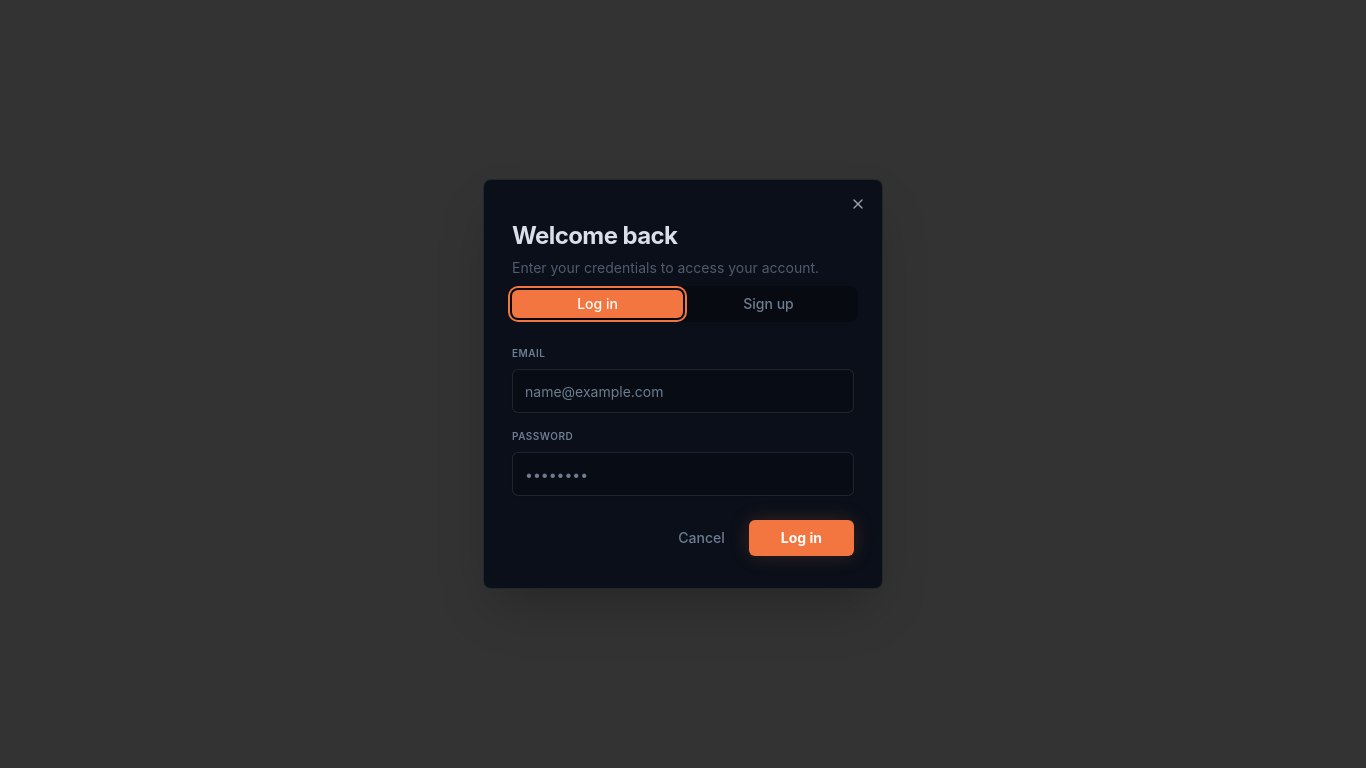
AuthModal › switches to register mode
Click the tab "Sign up".
click(768, 304)  # box top-left (683, 290), bottom-right (854, 318)
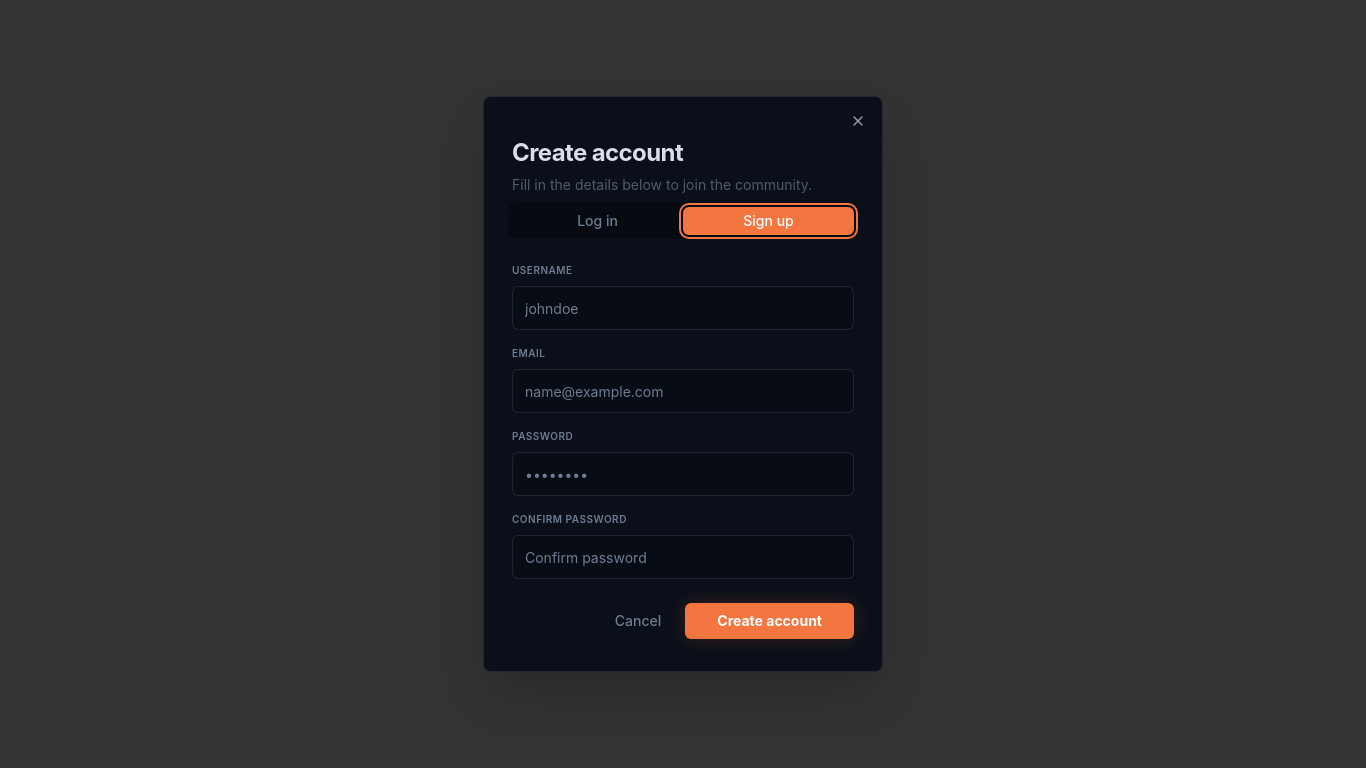
expect the heading "Create account" is shown: met, box top-left (512, 138), bottom-right (683, 167)
expect the field labelled "Username" is shown: met, box top-left (512, 286), bottom-right (854, 330)
expect the password field labelled "Confirm Password" is shown: met, box top-left (512, 535), bottom-right (854, 579)
